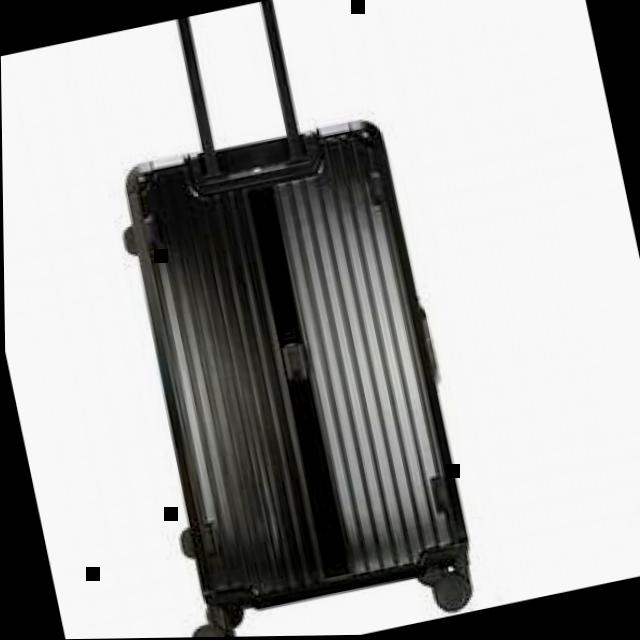luggage: (97, 101, 492, 634)
